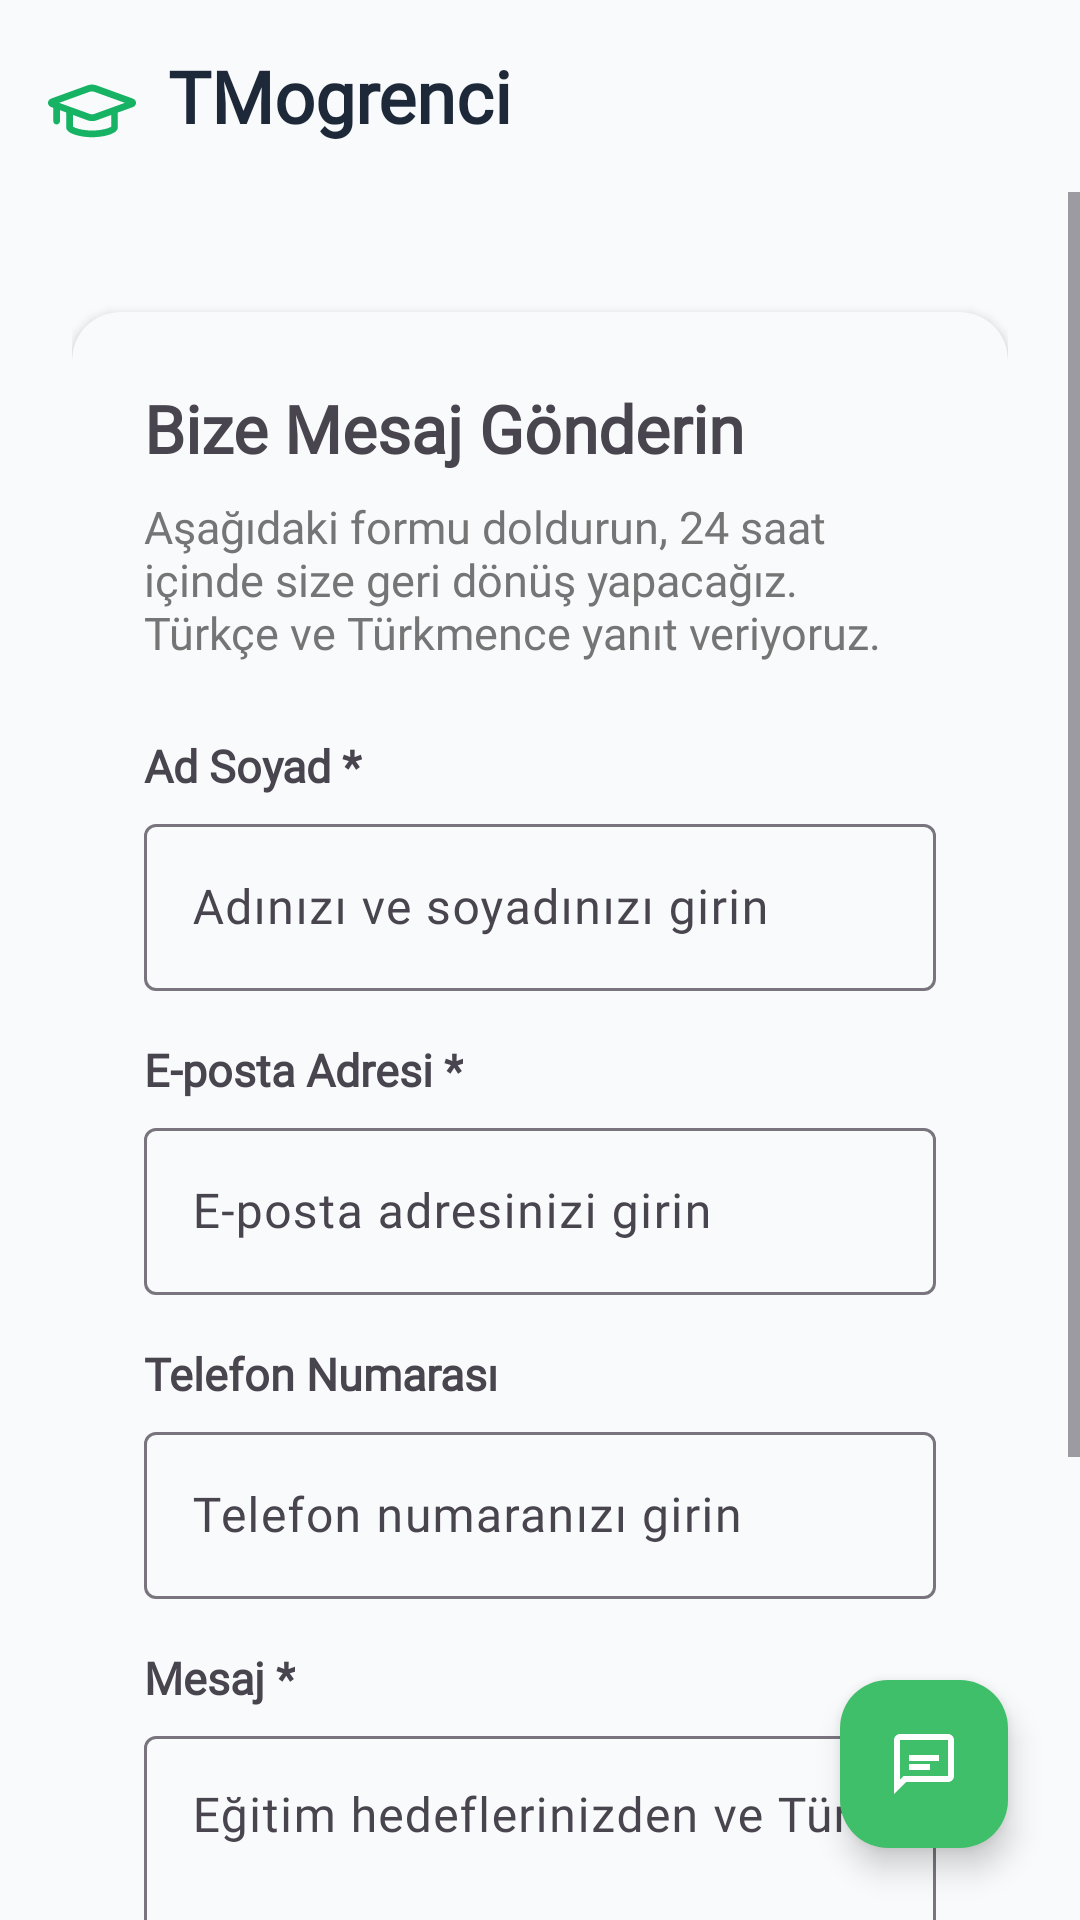

Where to tap for icons on this 1080 × 1920 app screen, as (x=x, y=y):
Canlı Destek: (x=924, y=1764)
